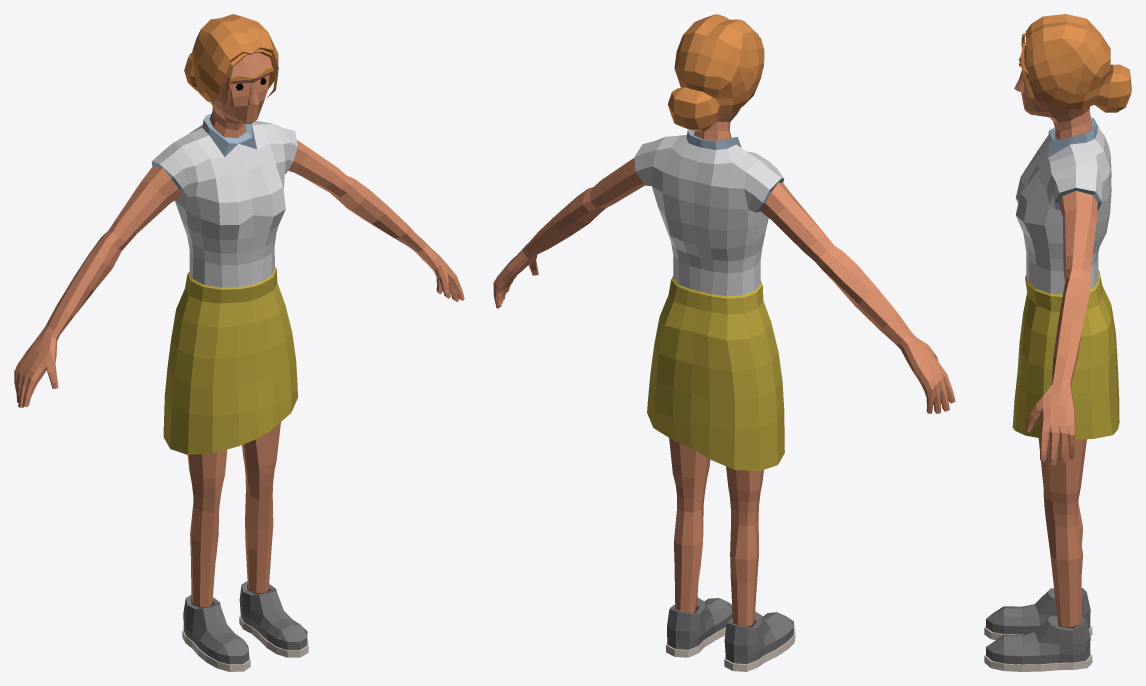
Rendered from PolyArt_Female_01.obj.
3 renders of one model, left to right at view 1: azimuth 30°, elevation 25°; view 2: azimuth 150°, elevation 25°; view 3: azimuth 270°, elevation 25°, orthographic. The views are drawn at different scales.
Visible parts, largest first — view 1: Body_01_Cube.004; view 2: Body_01_Cube.004; view 3: Body_01_Cube.004.
Boxes of the visible parts, x1=… form: Body_01_Cube.004: x1=14, y1=14, x2=464, y2=671; Body_01_Cube.004: x1=493, y1=14, x2=955, y2=671; Body_01_Cube.004: x1=984, y1=14, x2=1131, y2=671.
Bounding box in the file's own units: 1.48 × 1.97 × 0.4189.
